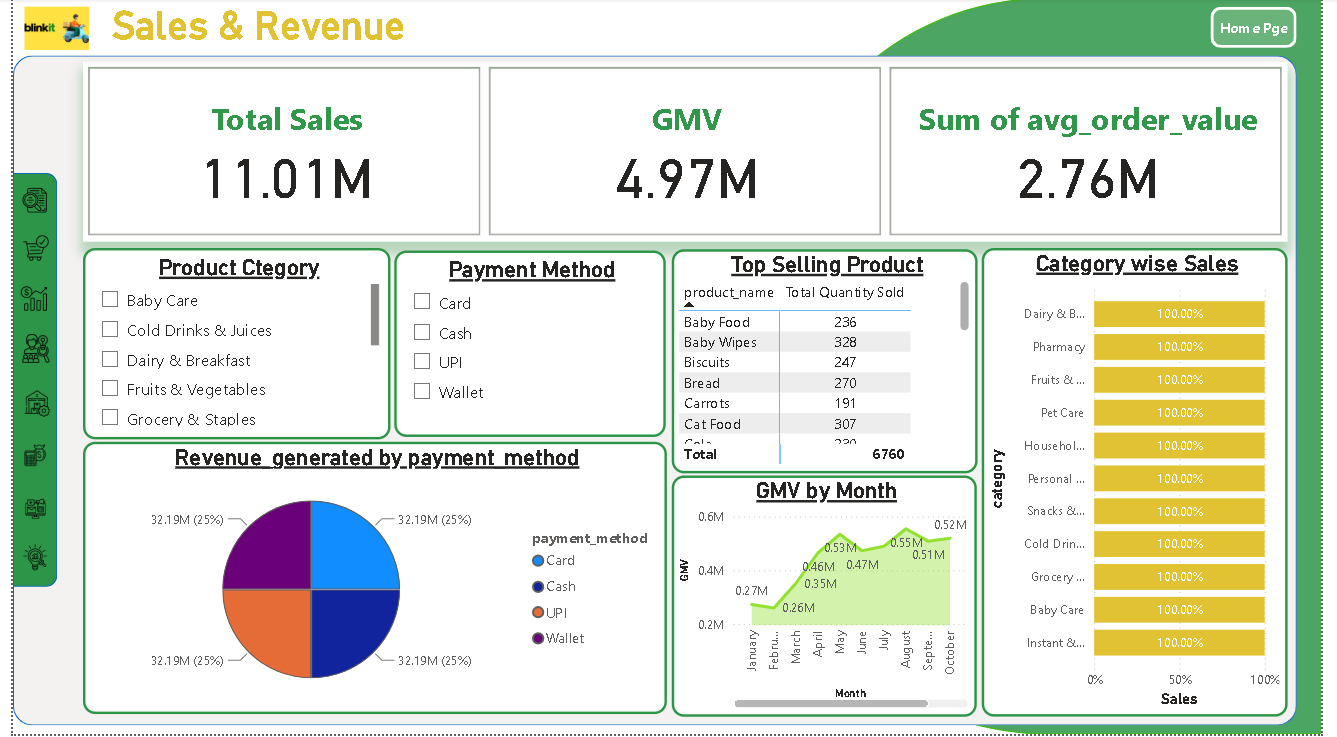

The page's visual inventory and layout, read from the dashboard file:
{"tool":"powerbi","page":{"name":"Sales & Revenue","canvas":[1280,720],"ordinal":3},"visuals":[{"type":"group","id":"g1","title":"Group 2","box":[0,0,1280,720.2],"z":0},{"type":"shape","box":[740.7,0,539.3,720.2],"z":1000,"group":"g1"},{"type":"image","box":[2.4,3.7,80.7,52.6],"z":1000},{"type":"textbox","title":"Sales & Revenue","box":[91.7,3.7,315.5,52.6],"z":2000},{"type":"shape","box":[0,56.3,1255.8,655.4],"z":2000,"group":"g1"},{"type":"cardVisual","fields":{"Data":["blinkit_customer_feedback.Total Sales","blinkit_customer_feedback.GMV","Sum(blinkit_customers.avg_order_value)"]},"box":[68.5,61.8,1178.2,176],"z":3000},{"type":"group","id":"g2","title":"Group 1","box":[0,171.2,46.5,404.8],"z":3000,"group":"g1"},{"type":"hundredPercentStackedBarChart","title":"Category wise Sales ","fields":{"Y":["blinkit_customer_feedback.Category Sales"],"Category":["blinkit_products.category"]},"box":[947.7,244.6,299.6,458.6],"z":4000},{"type":"pivotTable","title":"Top Selling Product","fields":{"Values":["blinkit_customer_feedback.Total Quantity Sold"],"Rows":["blinkit_products.product_name"]},"box":[644.4,245.8,299.6,218.9],"z":5000},{"type":"areaChart","fields":{"Category":["blinkit_orders.order_date.Variation.Date Hierarchy.Month"],"Y":["blinkit_customer_feedback.GMV"]},"box":[644.4,467.1,298.4,236],"z":6000},{"type":"shape","box":[0,171.2,43.2,404.8],"z":7000,"group":"g2"},{"type":"pieChart","title":"Revenue_generated by payment_method","fields":{"Category":["blinkit_orders.payment_method"],"Y":["Sum(blinkit_marketing_performance.revenue_generated)"]},"box":[68.5,434.1,571.1,266.6],"z":7000},{"type":"slicer","title":"Product Ctegory","fields":{"Values":["blinkit_products.category"]},"box":[68.5,244.6,300.8,187.1],"z":8000},{"type":"image","box":[0.8,180.4,40,34],"z":9000,"group":"g2"},{"type":"slicer","title":"Payment Method","fields":{"Values":["blinkit_orders.payment_method"]},"box":[373,247,265.4,182.2],"z":9000},{"type":"shape","box":[1171.5,8.6,84.4,40.4],"z":10000},{"type":"image","box":[0.8,227.7,42.1,34.8],"z":10000,"group":"g2"},{"type":"image","box":[0.8,275.8,38.9,35.7],"z":11000,"group":"g2"},{"type":"image","box":[0.8,323.9,42.1,38.2],"z":12000,"group":"g2"},{"type":"image","box":[0.8,378.6,45.4,35.7],"z":13000,"group":"g2"},{"type":"image","box":[0.8,431.7,41.1,31.5],"z":14000,"group":"g2"},{"type":"image","box":[0.8,484.8,42.1,30.7],"z":15000,"group":"g2"},{"type":"image","box":[1.9,529.6,38.9,35.7],"z":16000,"group":"g2"}]}

Visuals, with their boxes in screenshot pixels (x1, y1, x2, y2), scaled from the page's 1280x720 canvas onto the 1337x737 screenshot:
"Group 2" group: (0, 0, 1336, 736)
shape: (774, 0, 1336, 736)
image: (3, 4, 87, 58)
"Sales & Revenue" textbox: (96, 4, 425, 58)
shape: (0, 58, 1312, 729)
cardVisual - blinkit_customer_feedback.Total Sales x blinkit_customer_feedback.GMV: (72, 63, 1302, 243)
"Group 1" group: (0, 175, 49, 590)
"Category wise Sales " hundredPercentStackedBarChart: (990, 250, 1303, 720)
"Top Selling Product" pivotTable: (673, 252, 986, 476)
areaChart - blinkit_orders.order_date.Variation.Date Hierarchy.Month x blinkit_customer_feedback.GMV: (673, 478, 985, 720)
shape: (0, 175, 45, 590)
"Revenue_generated by payment_method" pieChart: (72, 444, 668, 717)
"Product Ctegory" slicer: (72, 250, 386, 442)
image: (1, 185, 43, 219)
"Payment Method" slicer: (390, 253, 667, 439)
shape: (1224, 9, 1312, 50)
image: (1, 233, 45, 269)
image: (1, 282, 41, 319)
image: (1, 332, 45, 371)
image: (1, 388, 48, 424)
image: (1, 442, 44, 474)
image: (1, 496, 45, 528)
image: (2, 542, 43, 579)
